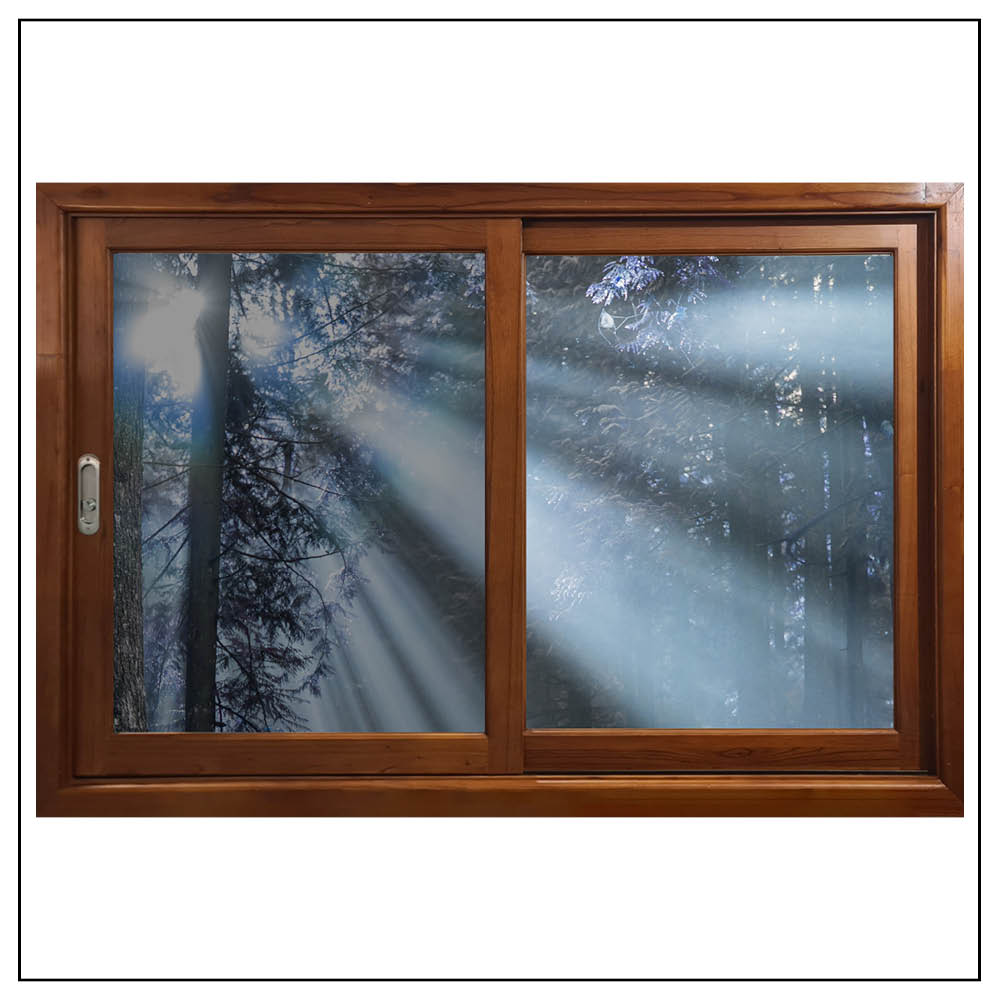Window: (38, 182, 959, 811)
